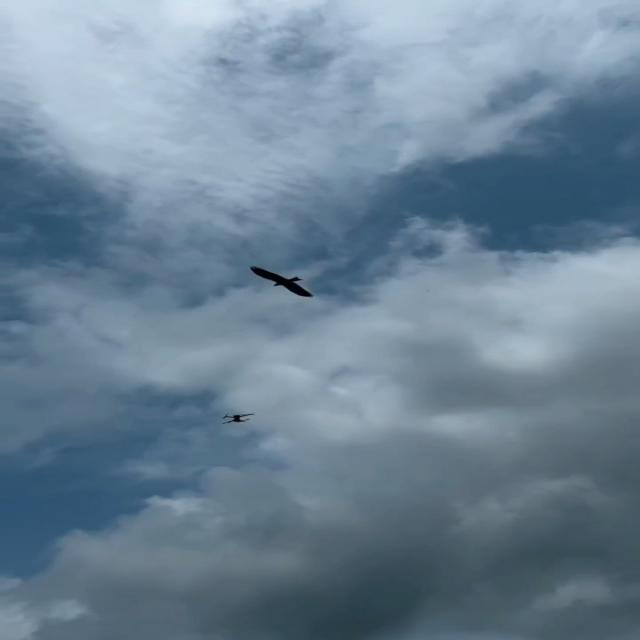bird: (248, 264, 313, 298)
drone: (220, 412, 254, 424)
